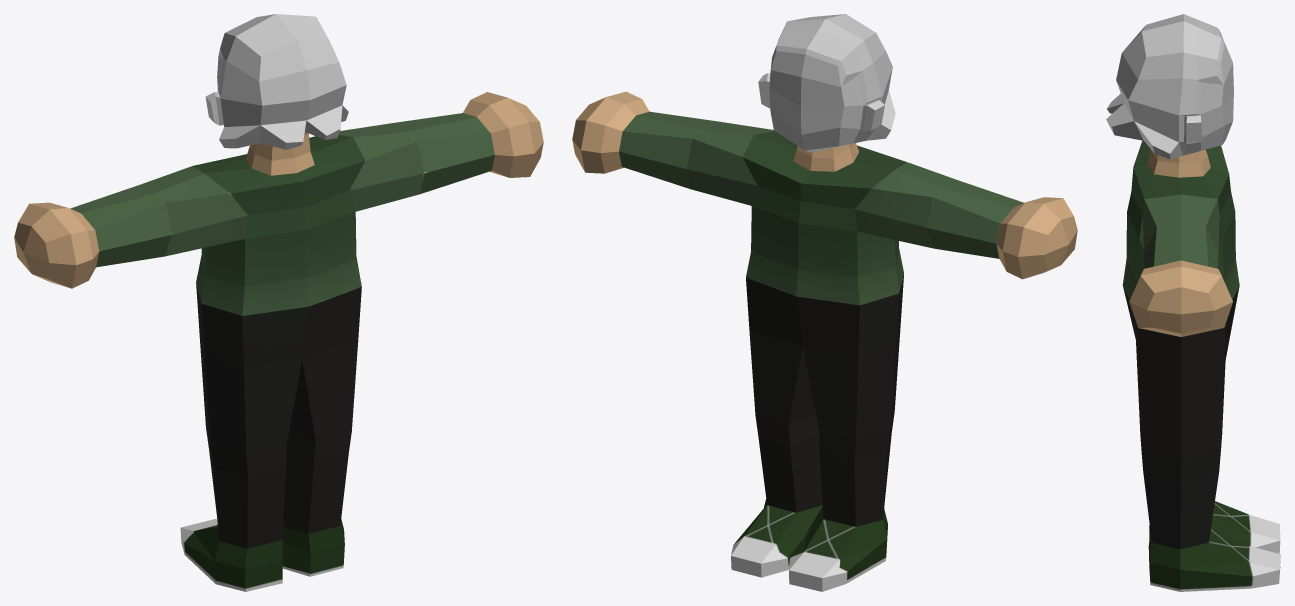
File: Sam.fbx
The picture shows the model from 3 angles, left to right: view 1: azimuth 30°, elevation 25°; view 2: azimuth 150°, elevation 25°; view 3: azimuth 270°, elevation 25°; orthographic projection. The views are drawn at different scales.
Visible parts, largest first — view 1: CHARTEST2.037; view 2: CHARTEST2.037; view 3: CHARTEST2.037.
Boxes of the visible parts, bbox=[...] form: CHARTEST2.037: bbox=[14, 14, 543, 591]; CHARTEST2.037: bbox=[572, 14, 1077, 591]; CHARTEST2.037: bbox=[1106, 14, 1280, 591].
Size of the model in its own units: 873 by 903 by 265.
